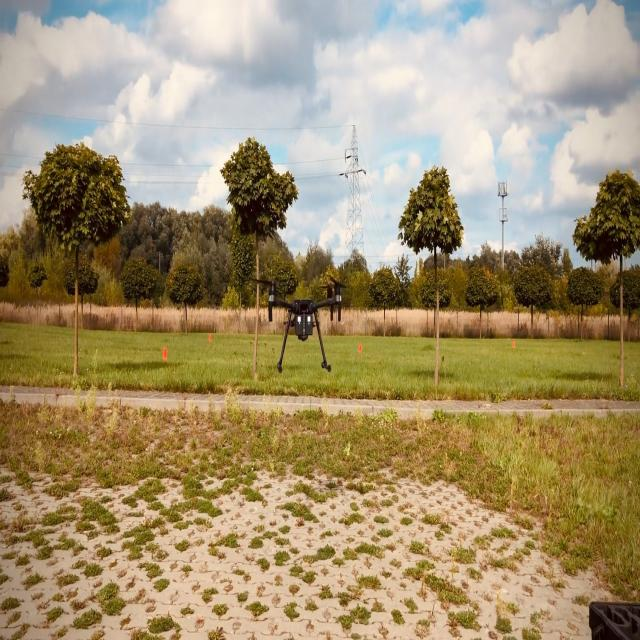drone: (249, 275, 347, 374)
